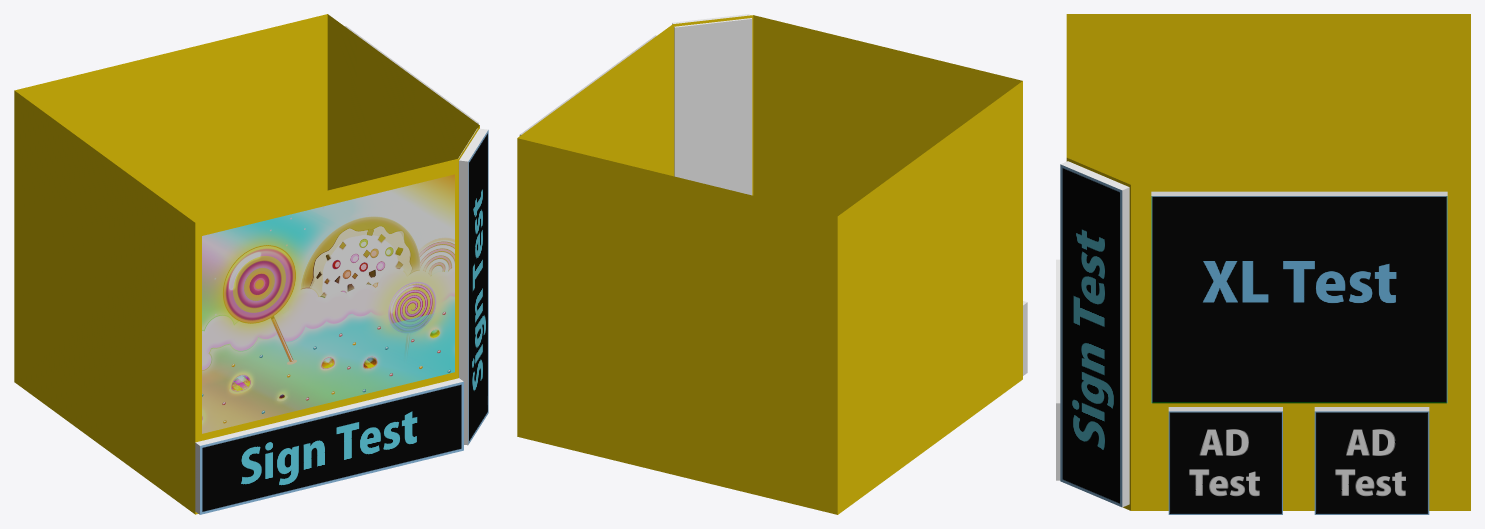
File: Town_Bld-Med_ADSTowerF.FBX
The picture shows the model from 3 angles, left to right: view 1: azimuth 30°, elevation 25°; view 2: azimuth 150°, elevation 25°; view 3: azimuth 270°, elevation 25°; orthographic projection. The views are drawn at different scales.
Parts seen in each view (by area): view 1: Town_Bld-Med_ADSTowerF; view 2: Town_Bld-Med_ADSTowerF; view 3: Town_Bld-Med_ADSTowerF.
Boxes of the visible parts, x1,y1,x2,y2 form: Town_Bld-Med_ADSTowerF: (14, 14, 488, 514); Town_Bld-Med_ADSTowerF: (517, 14, 1027, 514); Town_Bld-Med_ADSTowerF: (1056, 14, 1470, 514).
Bounding box in the file's own units: 616 × 534 × 616.
